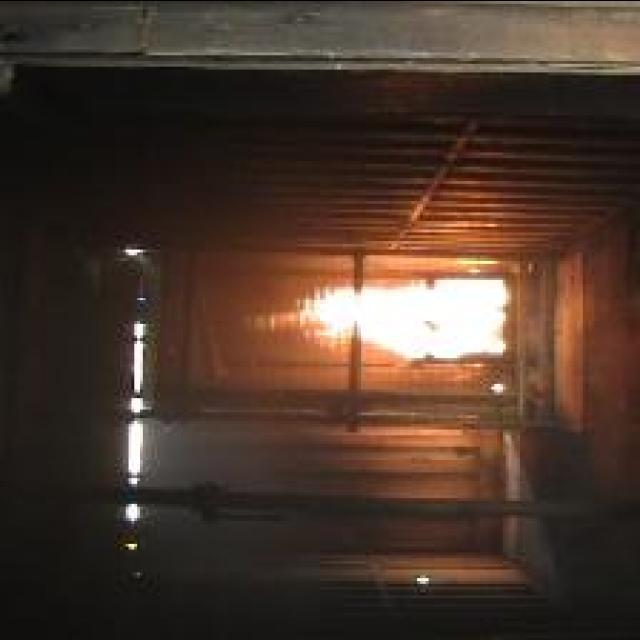Fire: (247, 278, 507, 358)
